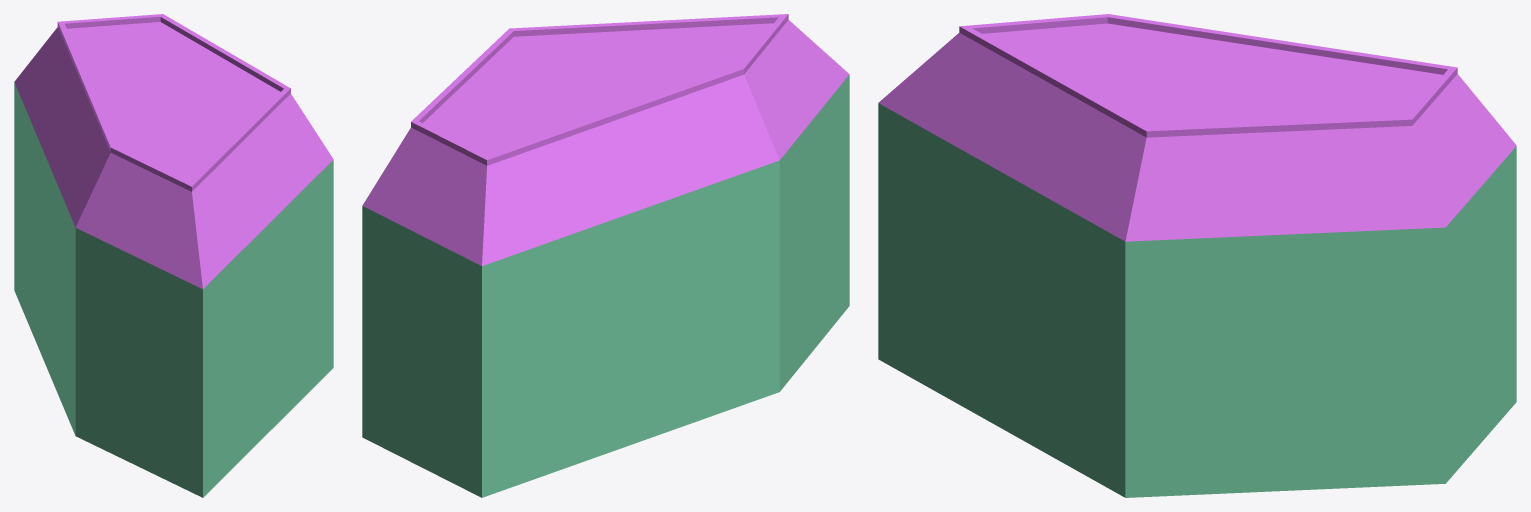
File: Batiment16.fbx
The picture shows the model from 3 angles, left to right: view 1: azimuth 30°, elevation 25°; view 2: azimuth 150°, elevation 25°; view 3: azimuth 270°, elevation 25°; orthographic projection. The views are drawn at different scales.
Visible parts, largest first — view 1: Batiment16; view 2: Batiment16; view 3: Batiment16.
Boxes of the visible parts, bbox=[...] form: Batiment16: bbox=[14, 14, 333, 497]; Batiment16: bbox=[362, 14, 849, 497]; Batiment16: bbox=[878, 14, 1516, 497].
Bounding box in the file's own units: 32.35 × 33.03 × 55.24.
